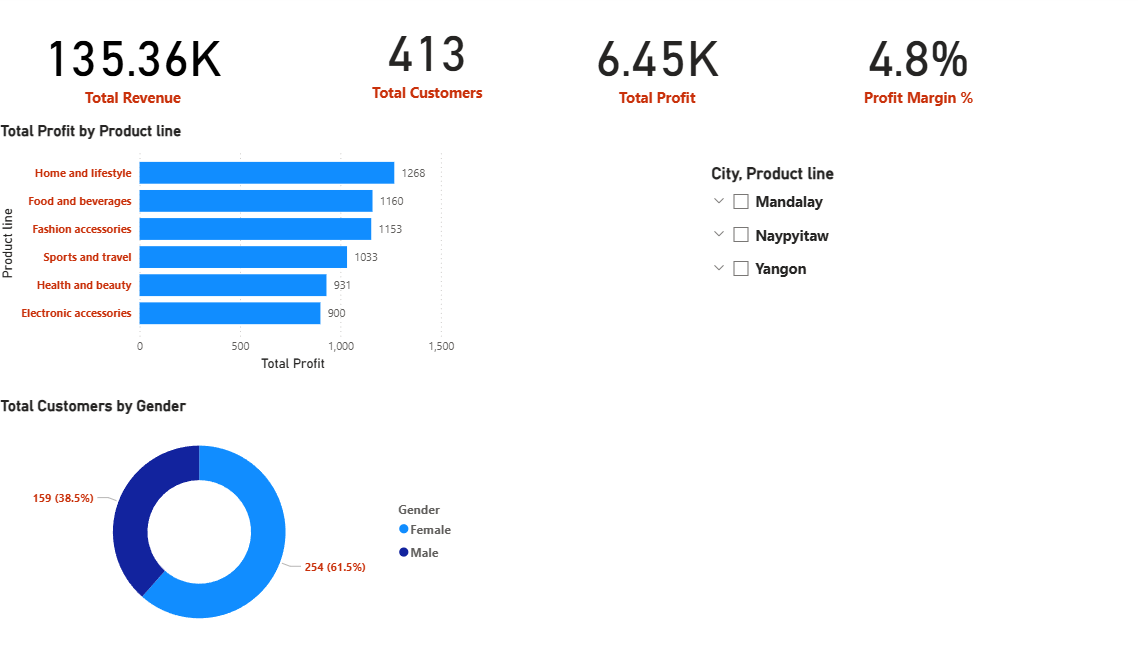

The page's visual inventory and layout, read from the dashboard file:
{"tool":"powerbi","page":{"name":"Page 1","canvas":[1280,720],"ordinal":0},"visuals":[{"type":"card","fields":{"Values":["SuperMarket Analysis.Total Revenue"]},"box":[0,0,300.5,149.6],"z":0},{"type":"card","fields":{"Values":["SuperMarket Analysis.Total Profit"]},"box":[575,0,301.9,150.9],"z":2000},{"type":"card","fields":{"Values":["SuperMarket Analysis.Profit Margin %"]},"box":[861.8,0,301.9,149.6],"z":3000},{"type":"barChart","fields":{"Category":["SuperMarket Analysis.Product line"],"Y":["SuperMarket Analysis.Total Profit"]},"box":[0,140,514.6,278.6],"z":3001},{"type":"donutChart","fields":{"Category":["SuperMarket Analysis.Gender"],"Y":["SuperMarket Analysis.Total Customers"]},"box":[0,441.9,514.6,278.6],"z":3002},{"type":"slicer","fields":{"Values":["SuperMarket Analysis.City","SuperMarket Analysis.Product line"]},"box":[772.6,181.1,481.6,278.6],"z":3003},{"type":"card","fields":{"Values":["SuperMarket Analysis.Total Customers"]},"box":[322.5,0,301.9,140],"z":3004}]}

Visuals, with their boxes in screenshot pixels (x1, y1, x2, y2), scaled from the page's 1280x720 canvas onto the 1138x649 screenshot:
card - SuperMarket Analysis.Total Revenue: region(0, 0, 267, 135)
card - SuperMarket Analysis.Total Profit: region(511, 0, 780, 136)
card - SuperMarket Analysis.Profit Margin %: region(766, 0, 1035, 135)
barChart - SuperMarket Analysis.Product line x SuperMarket Analysis.Total Profit: region(0, 126, 458, 377)
donutChart - SuperMarket Analysis.Gender x SuperMarket Analysis.Total Customers: region(0, 398, 458, 648)
slicer - SuperMarket Analysis.City x SuperMarket Analysis.Product line: region(687, 163, 1115, 414)
card - SuperMarket Analysis.Total Customers: region(287, 0, 555, 126)
